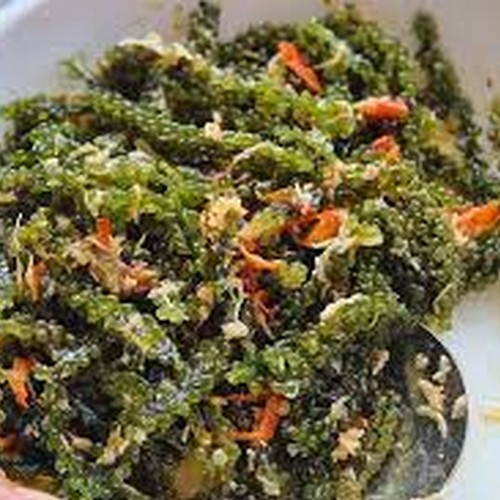bulung buni: (20, 32, 460, 479)
